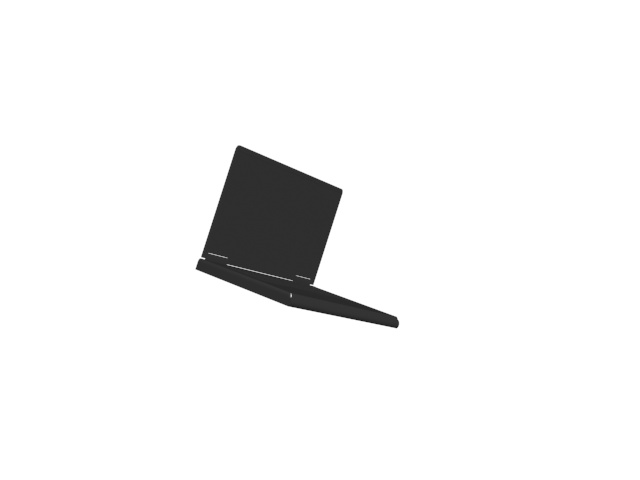laptop_computer: (193, 145, 400, 336)
